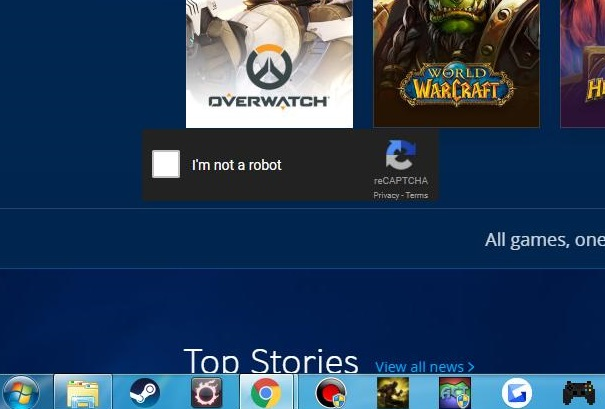captcha: (151, 149, 283, 178)
